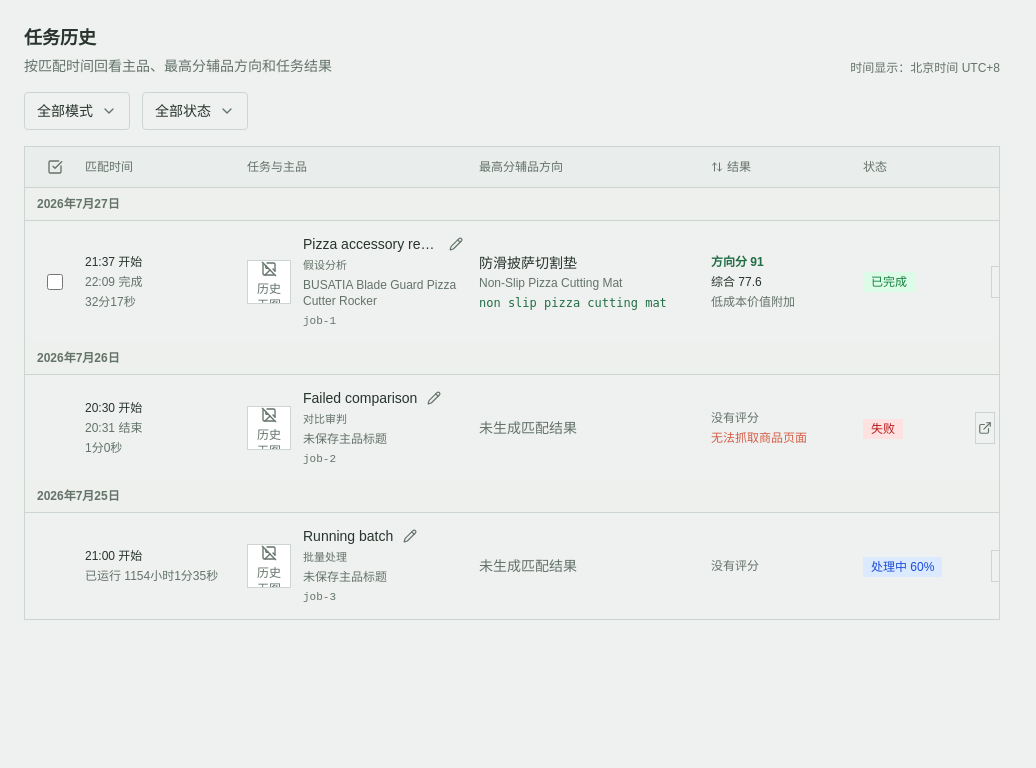
Scenario: edits a task note inline and saves it with Enter
This screenshot has width=1036, height=768.
Expected: the text "Pizza accessory research" is shown, [303,234,439,254]
Click the button named "修改任务备注" next to "Pizza accessory research": x=456, y=244 [445,233,467,255]
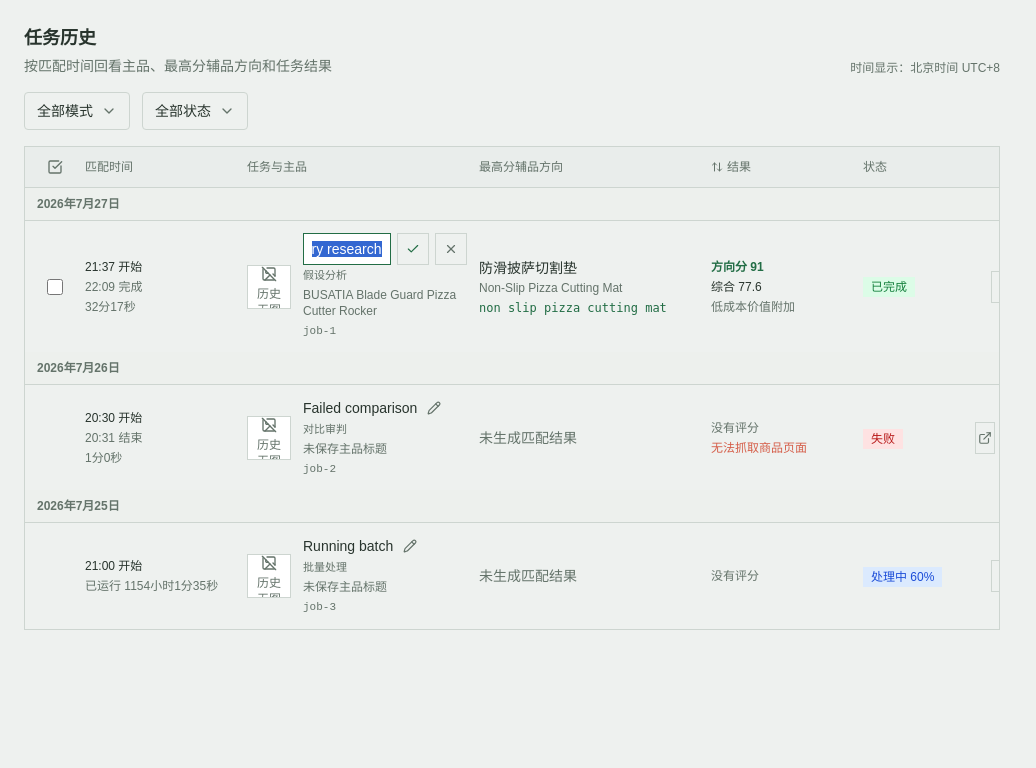
Result: the field named "任务备注" holds "Pizza accessory research"
Replace the text in the field named "任务备注" with "采购复核": x=347, y=249 [303,233,391,265]
Then press Enter
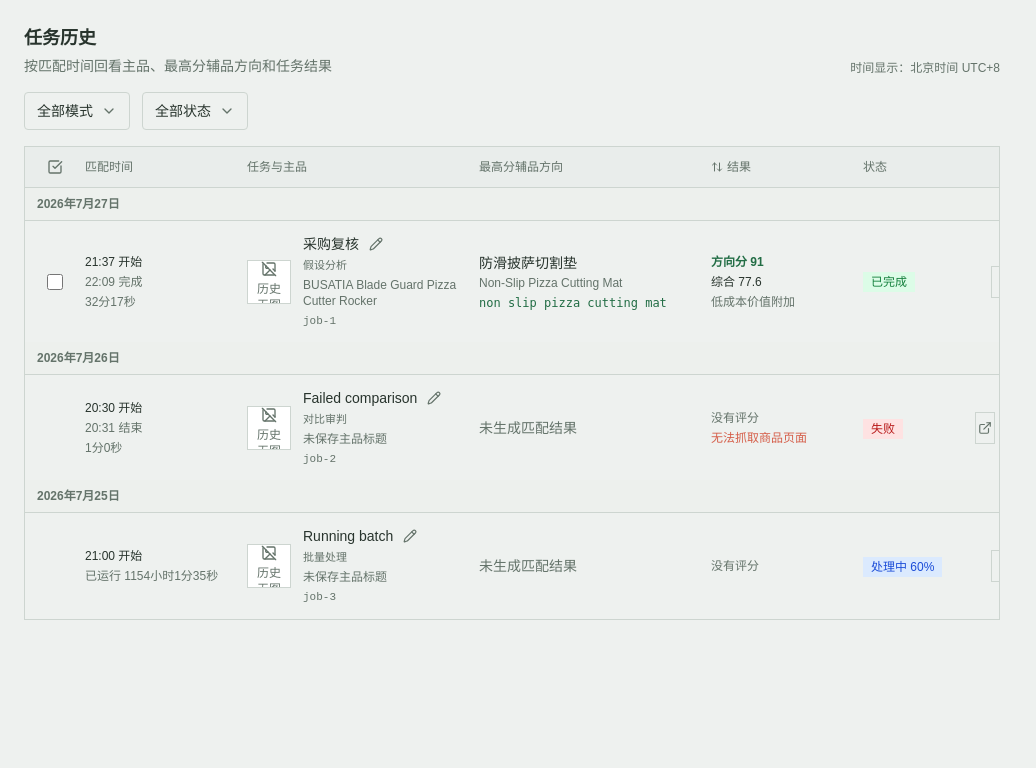
Result: the text "采购复核" is shown at [303,234,359,254]
